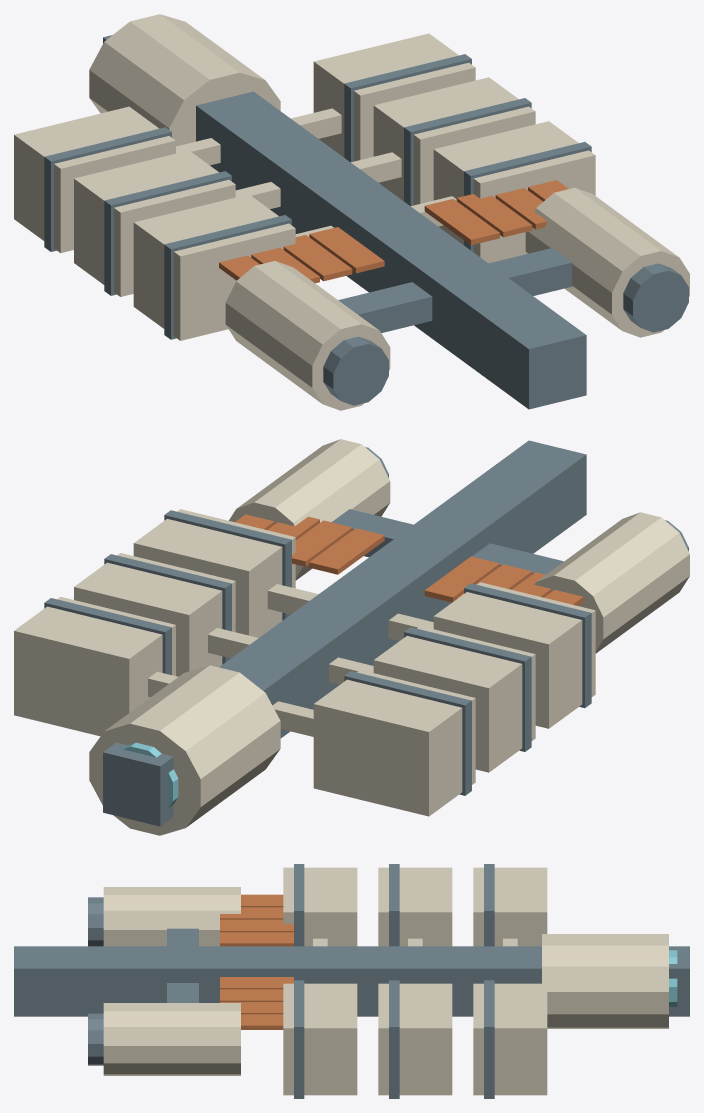
File: SpindleCarrier.gltf
The picture shows the model from 3 angles, top to bottom: view 1: azimuth 30°, elevation 25°; view 2: azimuth 150°, elevation 25°; view 3: azimuth 270°, elevation 25°; orthographic projection. The views are drawn at different scales.
Visible parts, largest first — view 1: Hangar bay (×6), Keel, Engine nacelle (×2), Flight deck, Service collar (×6), Radiator leaf (×6), Exhaust bell (×2), Aft yoke (×2), Load crossmember (×4); view 2: Hangar bay (×6), Keel, Engine nacelle (×2), Flight deck, Service collar (×6), Radiator leaf (×4), Load crossmember (×5), Aft yoke (×2), Forward optics; view 3: Hangar bay (×6), Keel, Engine nacelle (×2), Flight deck, Service collar (×6), Radiator leaf (×8), Exhaust bell (×2), Aft yoke (×2), Forward optics.
Part boxes in pixels (x1=…): Hangar bay (×6): x1=14, y1=33, x2=595, y2=340; Keel: x1=103, y1=35, x2=586, y2=409; Engine nacelle (×2): x1=225, y1=187, x2=689, y2=410; Flight deck: x1=89, y1=14, x2=280, y2=146; Service collar (×6): x1=44, y1=54, x2=591, y2=339; Radiator leaf (×6): x1=251, y1=188, x2=547, y2=283; Exhaust bell (×2): x1=323, y1=263, x2=688, y2=405; Aft yoke (×2): x1=338, y1=248, x2=572, y2=332; Load crossmember (×4): x1=176, y1=108, x2=401, y2=209; Hangar bay (×6): x1=14, y1=509, x2=595, y2=816; Keel: x1=103, y1=440, x2=586, y2=826; Engine nacelle (×2): x1=229, y1=439, x2=689, y2=653; Flight deck: x1=89, y1=665, x2=280, y2=835; Service collar (×6): x1=44, y1=510, x2=591, y2=795; Radiator leaf (×4): x1=292, y1=520, x2=532, y2=602; Load crossmember (×5): x1=208, y1=584, x2=433, y2=736; Aft yoke (×2): x1=332, y1=509, x2=563, y2=574; Forward optics: x1=123, y1=742, x2=178, y2=807; Hangar bay (×6): x1=283, y1=867, x2=547, y2=1095; Keel: x1=14, y1=946, x2=689, y2=1016; Engine nacelle (×2): x1=103, y1=887, x2=240, y2=1075; Flight deck: x1=542, y1=934, x2=668, y2=1028; Service collar (×6): x1=294, y1=864, x2=494, y2=1098; Radiator leaf (×8): x1=220, y1=894, x2=293, y2=1029; Exhaust bell (×2): x1=88, y1=897, x2=103, y2=1065; Aft yoke (×2): x1=167, y1=928, x2=198, y2=1002; Forward optics: x1=669, y1=950, x2=677, y2=1006.
Size of the model in its own units: 36.5 by 8.69 by 64.
